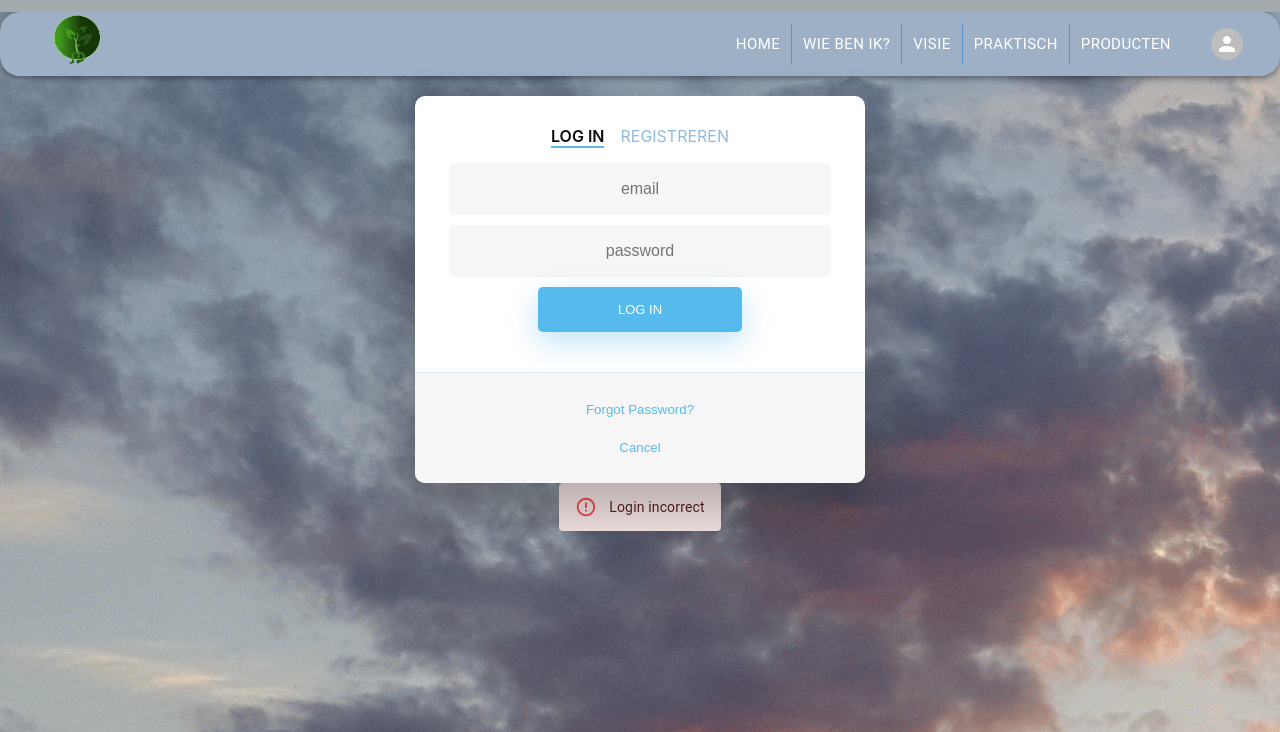
login › empty input
Click the button with test id "submit_login": [640, 310] box [538, 287, 742, 332]
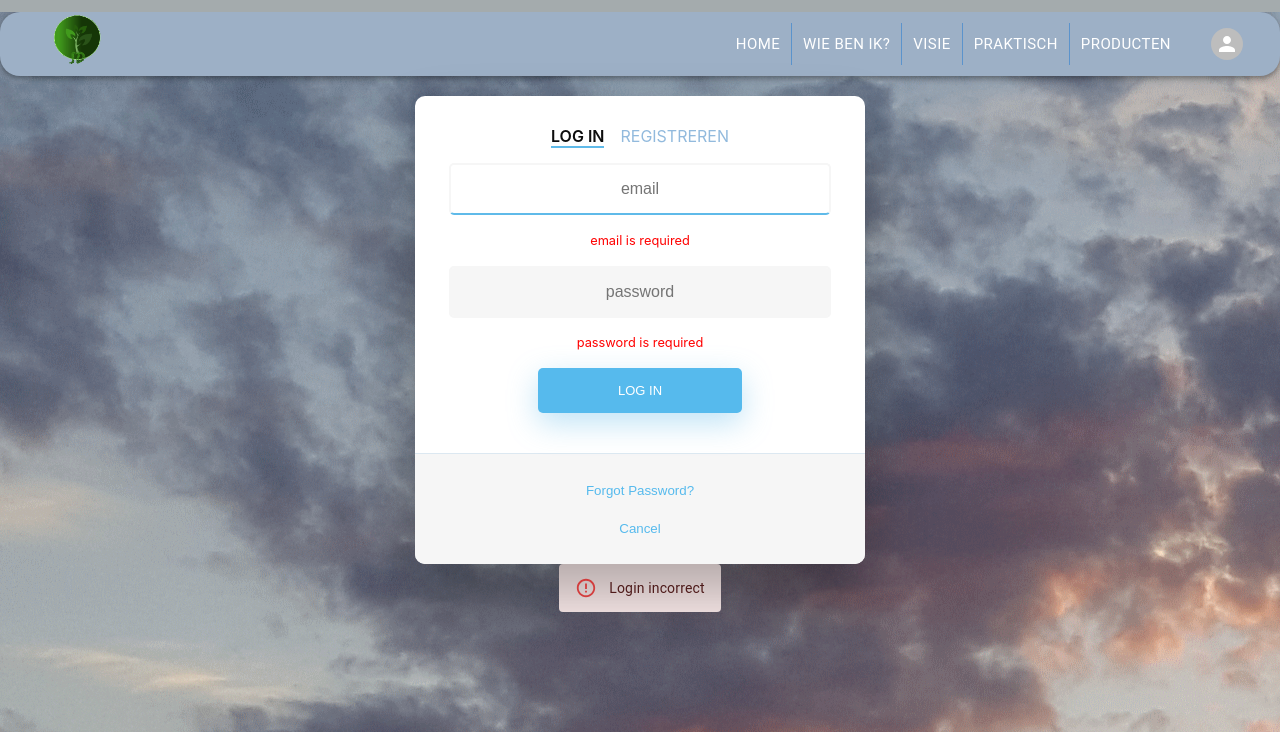
Now the text "email is required" is shown, box [590, 233, 690, 248]
Now the text "password is required" is shown, box [577, 335, 703, 350]
